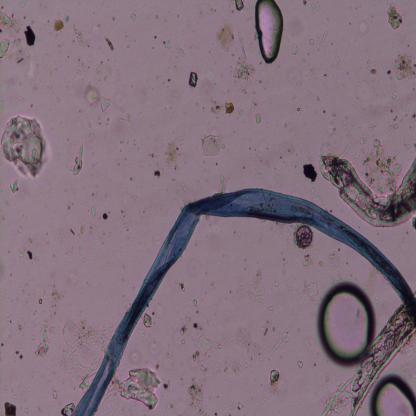Air bubble: (320, 280, 379, 369), (254, 0, 284, 65), (371, 374, 416, 416)
Background material: (0, 110, 54, 186), (61, 309, 108, 387), (216, 23, 257, 94), (359, 133, 402, 193), (34, 278, 65, 358), (120, 366, 162, 413), (0, 10, 35, 58), (236, 326, 264, 362), (286, 58, 314, 94), (389, 49, 416, 85), (191, 329, 211, 376), (83, 53, 112, 84), (83, 82, 111, 114), (316, 246, 340, 283), (269, 323, 294, 357), (21, 50, 42, 90), (211, 359, 249, 379), (248, 267, 268, 304), (384, 2, 407, 33), (163, 137, 181, 175), (184, 380, 203, 415), (292, 224, 314, 254), (202, 131, 224, 158), (74, 24, 94, 53), (209, 99, 236, 120), (186, 256, 208, 278), (344, 124, 366, 146), (196, 1, 225, 17), (70, 143, 84, 175), (351, 101, 374, 120), (40, 49, 57, 74), (368, 83, 391, 101), (163, 40, 185, 58), (300, 162, 318, 184), (180, 319, 197, 342), (386, 112, 404, 133), (304, 278, 320, 301), (249, 99, 262, 126), (405, 101, 416, 130), (185, 68, 198, 92), (355, 20, 372, 38), (2, 73, 21, 89), (50, 17, 69, 33), (71, 52, 86, 72), (118, 110, 139, 124), (233, 273, 244, 297), (124, 28, 136, 50), (163, 55, 178, 72), (218, 172, 229, 195), (17, 246, 35, 260), (6, 178, 20, 196), (10, 346, 25, 362), (1, 401, 18, 415), (180, 19, 192, 37), (325, 120, 339, 135), (300, 252, 314, 267), (269, 368, 280, 387), (17, 318, 28, 337), (142, 314, 153, 332), (153, 206, 167, 220), (147, 231, 162, 244), (390, 85, 402, 101), (303, 30, 315, 46), (103, 36, 114, 53), (149, 341, 162, 355), (233, 0, 248, 12), (112, 119, 122, 137), (164, 348, 174, 365), (310, 186, 320, 203), (333, 53, 343, 70), (146, 148, 160, 160), (129, 349, 140, 364), (88, 206, 99, 221), (84, 117, 95, 132), (285, 138, 295, 154), (50, 383, 60, 399), (62, 402, 75, 414), (179, 179, 189, 194), (277, 172, 285, 190), (367, 60, 377, 74), (303, 336, 313, 350), (257, 230, 267, 244), (5, 311, 15, 325), (259, 322, 269, 336), (311, 0, 321, 14), (278, 251, 287, 266), (98, 231, 110, 242), (128, 9, 138, 22), (306, 145, 314, 161), (384, 99, 393, 113), (271, 225, 286, 233), (232, 229, 244, 239), (99, 190, 111, 200), (16, 92, 26, 104), (166, 400, 176, 412), (296, 357, 304, 371), (63, 198, 71, 211), (161, 378, 170, 389), (18, 0, 29, 9), (57, 42, 64, 56), (190, 295, 198, 307), (180, 282, 188, 294), (121, 220, 130, 230), (292, 43, 298, 58), (118, 208, 127, 218), (236, 106, 245, 116), (151, 171, 162, 179), (62, 9, 70, 20), (310, 361, 318, 372), (252, 155, 264, 162), (65, 246, 74, 255), (100, 210, 108, 220), (15, 224, 23, 234), (235, 402, 243, 412), (88, 222, 94, 235), (293, 104, 300, 115), (149, 125, 159, 132), (272, 278, 279, 288), (81, 224, 87, 235), (356, 2, 364, 10), (128, 175, 137, 182), (368, 123, 377, 130), (118, 137, 125, 146), (256, 171, 263, 180), (58, 224, 64, 234), (151, 33, 158, 41), (214, 342, 222, 349), (68, 228, 75, 236), (76, 245, 82, 254), (77, 108, 82, 118), (277, 152, 283, 160), (132, 194, 138, 202), (195, 308, 201, 316), (268, 305, 274, 312), (368, 12, 375, 18), (24, 299, 30, 306), (104, 117, 109, 125), (323, 71, 328, 79), (266, 160, 271, 168), (302, 0, 310, 5), (132, 137, 136, 147), (384, 69, 392, 74), (92, 242, 96, 251), (212, 410, 218, 416), (0, 340, 5, 347), (29, 102, 34, 109), (331, 113, 338, 118), (112, 15, 116, 23), (4, 383, 8, 391), (321, 108, 327, 113), (91, 164, 95, 171), (167, 77, 172, 82), (286, 160, 290, 166), (24, 408, 30, 412), (90, 151, 94, 156), (29, 239, 33, 244), (92, 191, 96, 196), (155, 14, 159, 19), (316, 96, 320, 101), (27, 270, 30, 276), (215, 160, 218, 166), (248, 146, 252, 150), (66, 57, 69, 62), (242, 167, 246, 170), (82, 258, 85, 262), (2, 5, 4, 10), (331, 42, 333, 46), (118, 162, 120, 166), (45, 205, 47, 208)
Cellulose filter fibre: (324, 307, 414, 415), (319, 146, 416, 226)
Cotton: (73, 182, 416, 415)
Glass filter fibre: (321, 29, 328, 43)
